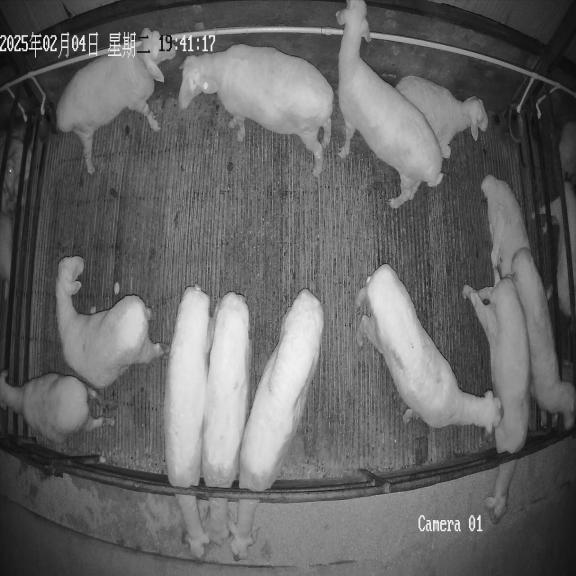eating: (229, 289, 323, 559), (462, 270, 530, 523), (164, 286, 213, 558), (201, 292, 250, 544)
lying: (396, 76, 488, 158), (481, 175, 530, 278)
stand: (356, 264, 502, 434), (481, 175, 576, 428), (336, 0, 443, 208), (179, 44, 334, 176), (56, 28, 176, 174), (56, 256, 168, 388), (0, 371, 114, 443)
